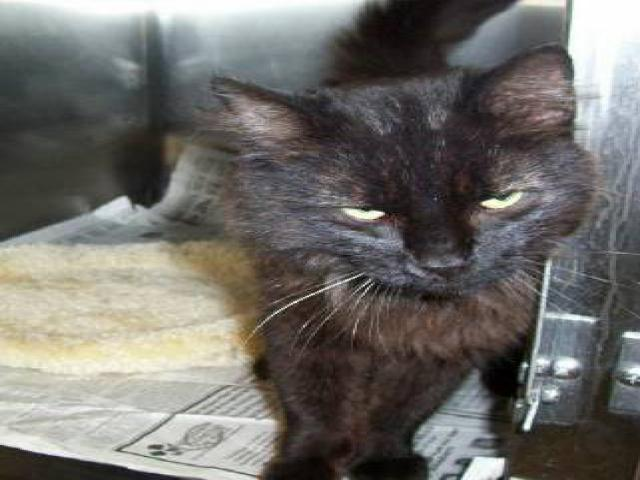cat: (96, 29, 601, 480)
